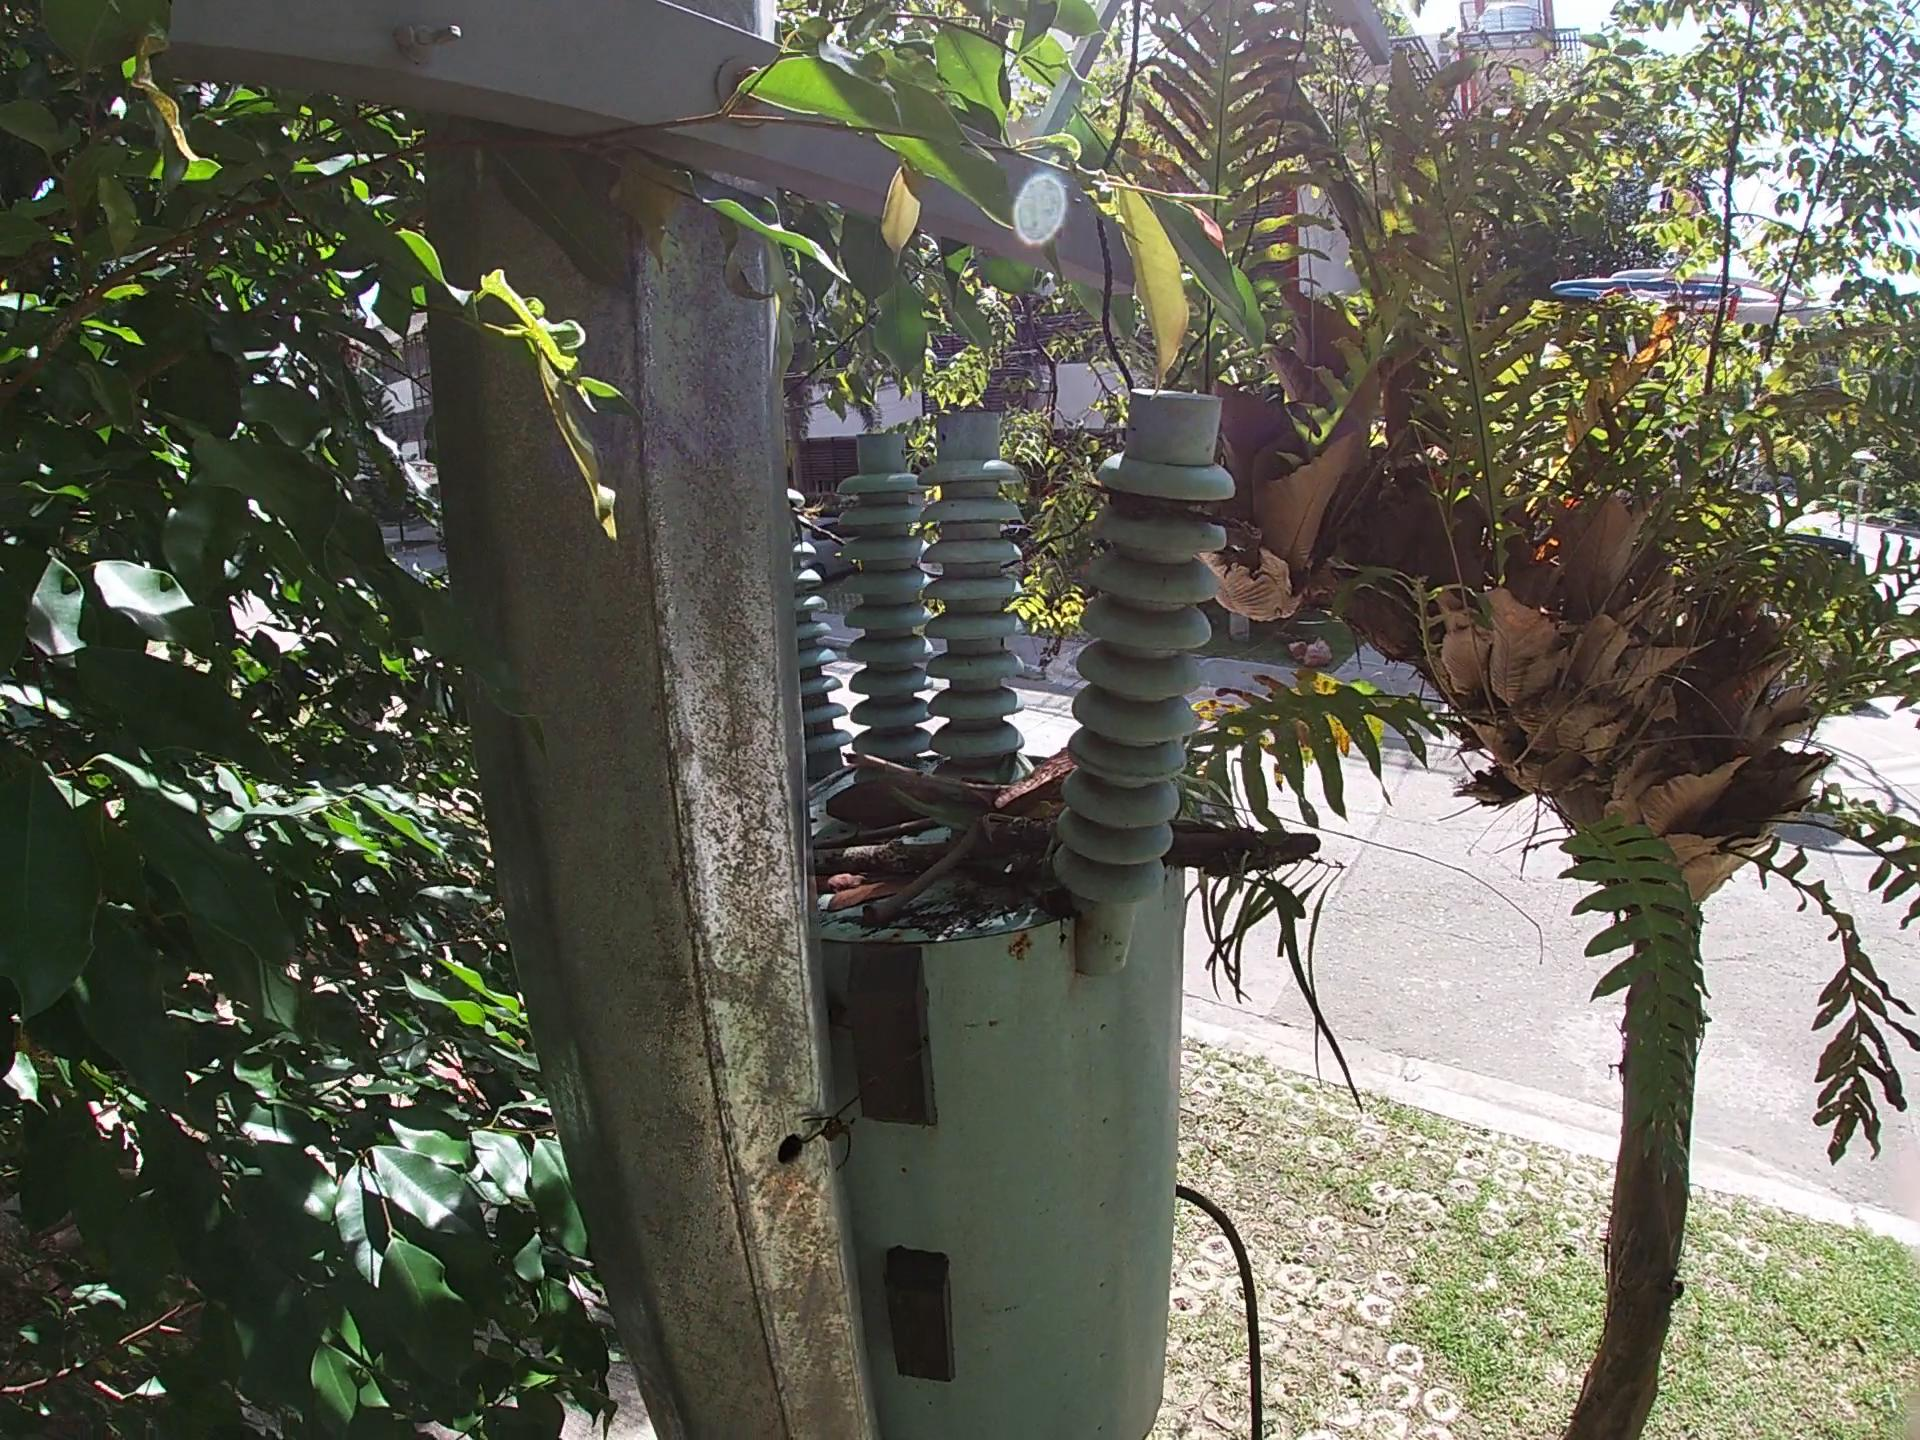branch with leaves: (803, 835, 1290, 886)
leaf: (825, 874, 874, 914)
mahogany fruit: (803, 737, 848, 764)
tree branch: (872, 759, 1519, 911), (878, 802, 1051, 924), (804, 731, 857, 820)
